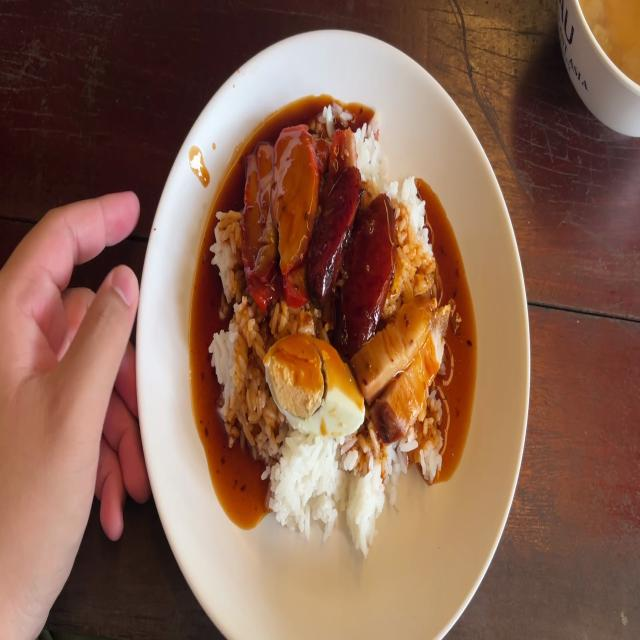01boiled_egg: (264, 334, 366, 439)
01chainese_sausage: (310, 174, 394, 352), (344, 199, 394, 348), (311, 171, 363, 295)
01crispy_pork: (360, 298, 451, 437), (385, 304, 451, 436), (356, 291, 436, 393)
01red_pork: (247, 128, 308, 291), (276, 119, 315, 294), (241, 137, 276, 307)
01red_pork_and_crispy_pork: (205, 103, 455, 553)
01rice: (262, 441, 384, 534), (204, 294, 266, 457), (396, 188, 434, 293), (213, 213, 244, 306)
